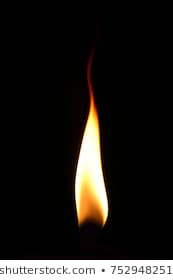Fire: (64, 61, 115, 227)
